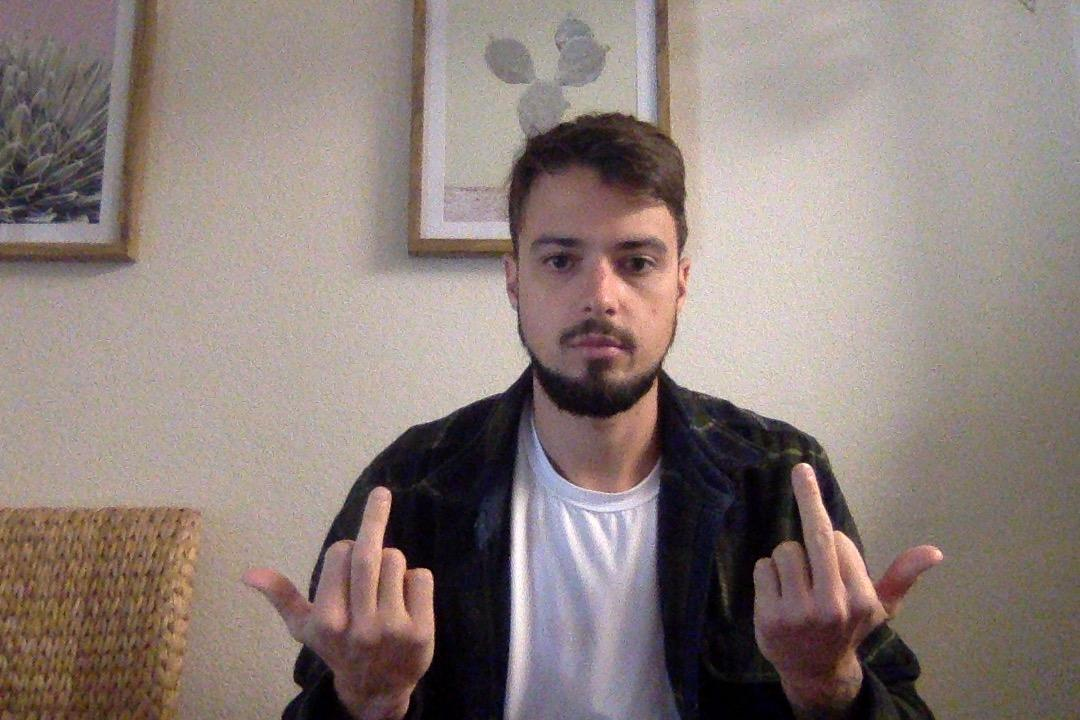Middle: (746, 454, 940, 712), (246, 477, 435, 720)
